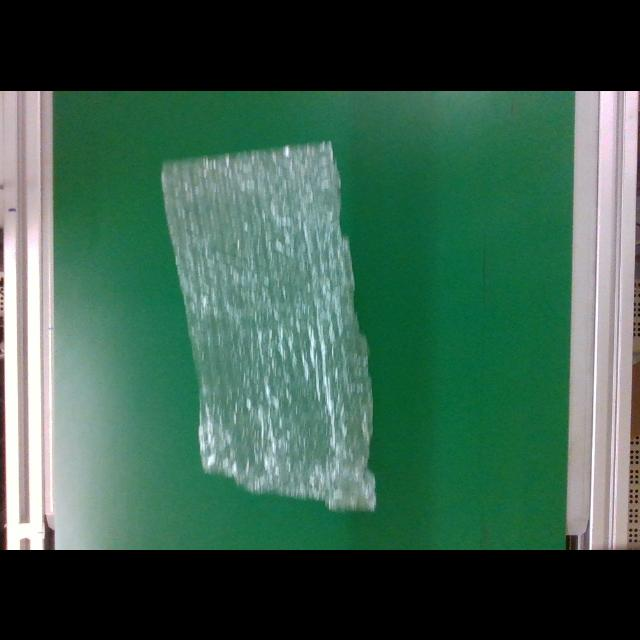scrap_plastic: (150, 138, 388, 518)
